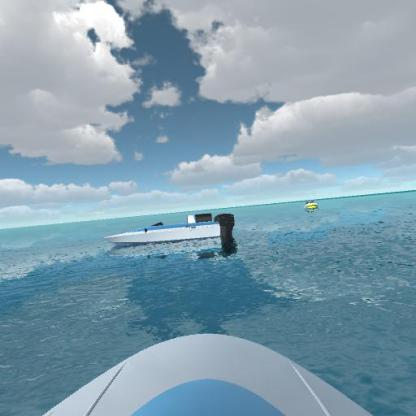usv1: (99, 208, 237, 255)
usv2: (304, 198, 322, 214)
